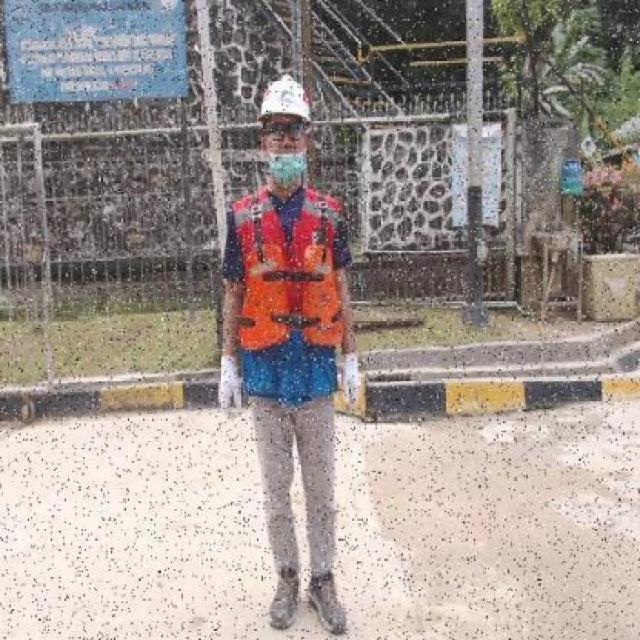Boots: (305, 566, 347, 636), (268, 565, 300, 630)
Gloves: (215, 353, 242, 422), (338, 352, 362, 414)
Helmet: (258, 73, 314, 127)
Mask: (268, 150, 304, 188)
Protective Glasses: (266, 122, 305, 141)
Vest: (240, 241, 345, 354)
